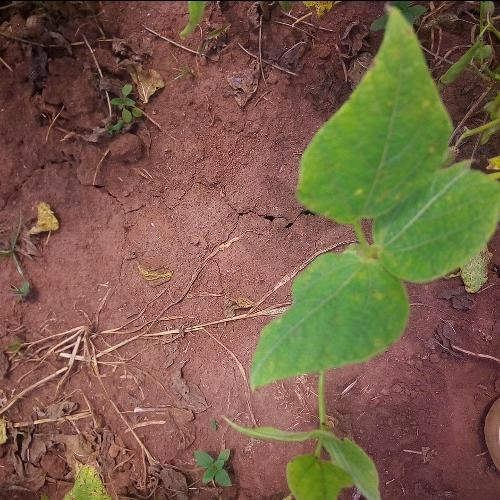mozaik: (349, 110, 458, 256), (312, 271, 397, 351)
